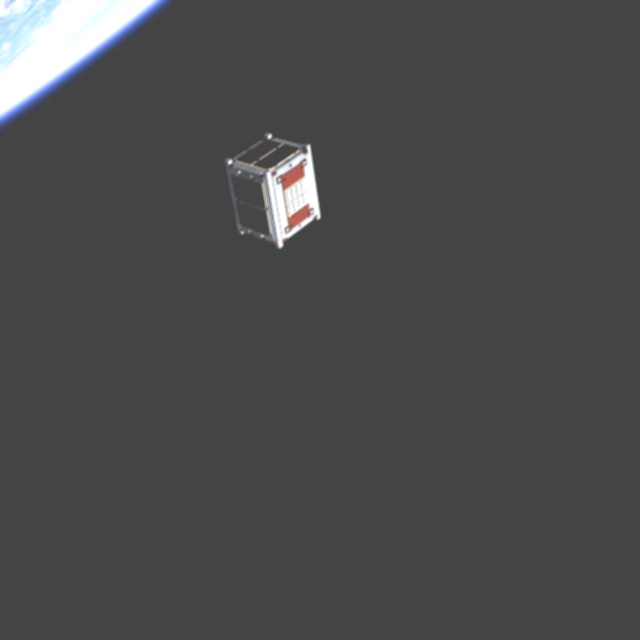medium_debris: (221, 130, 323, 253)
